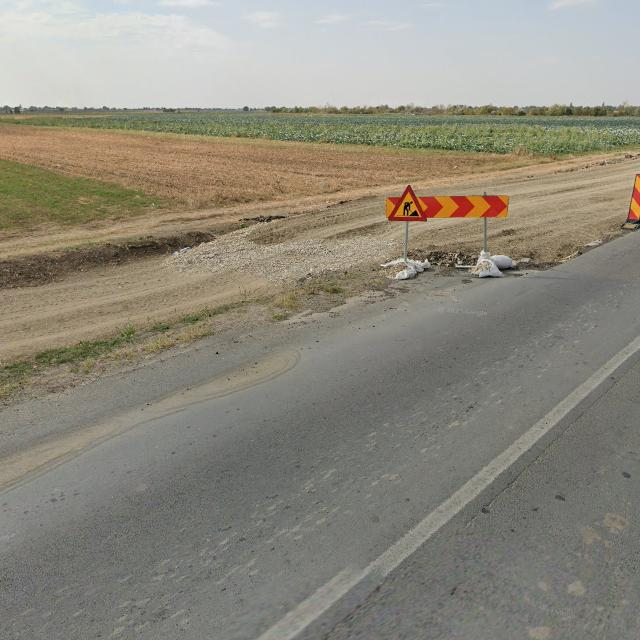warn_construction: (388, 184, 427, 220)
